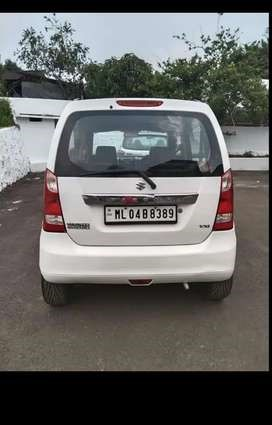ML04B8389: (105, 204, 176, 221)
